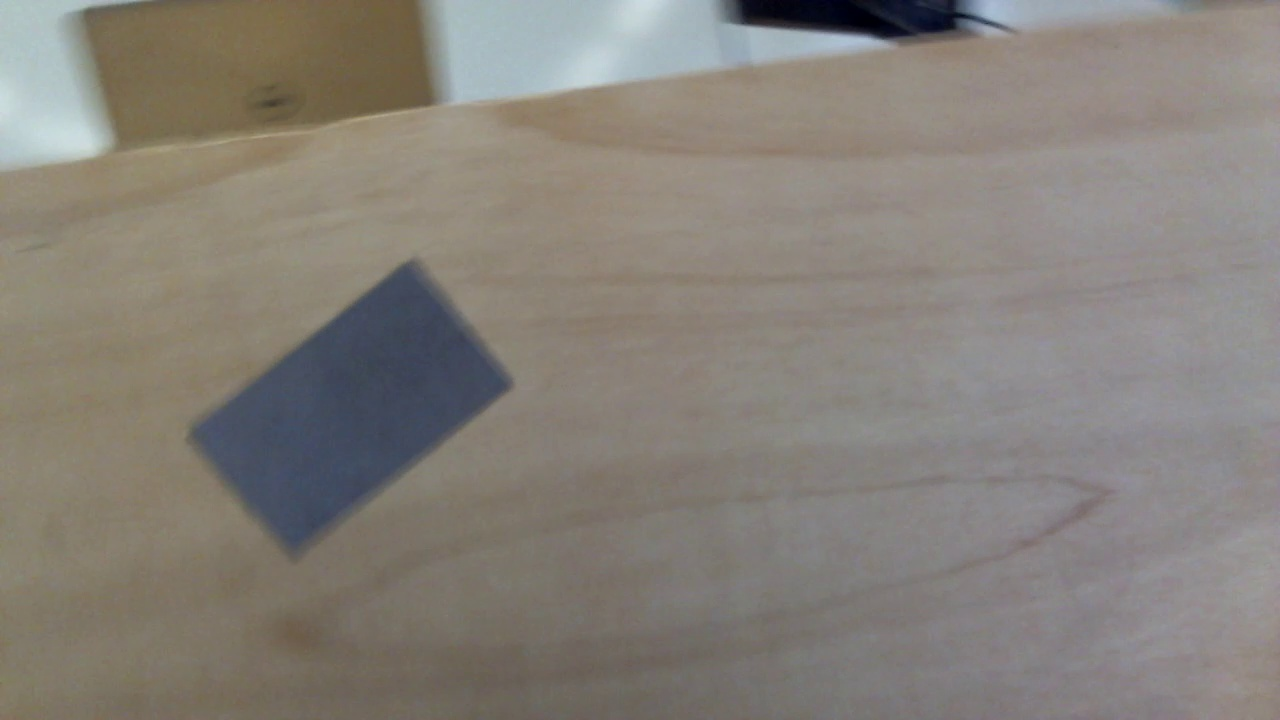Tape: (191, 258, 518, 566)
